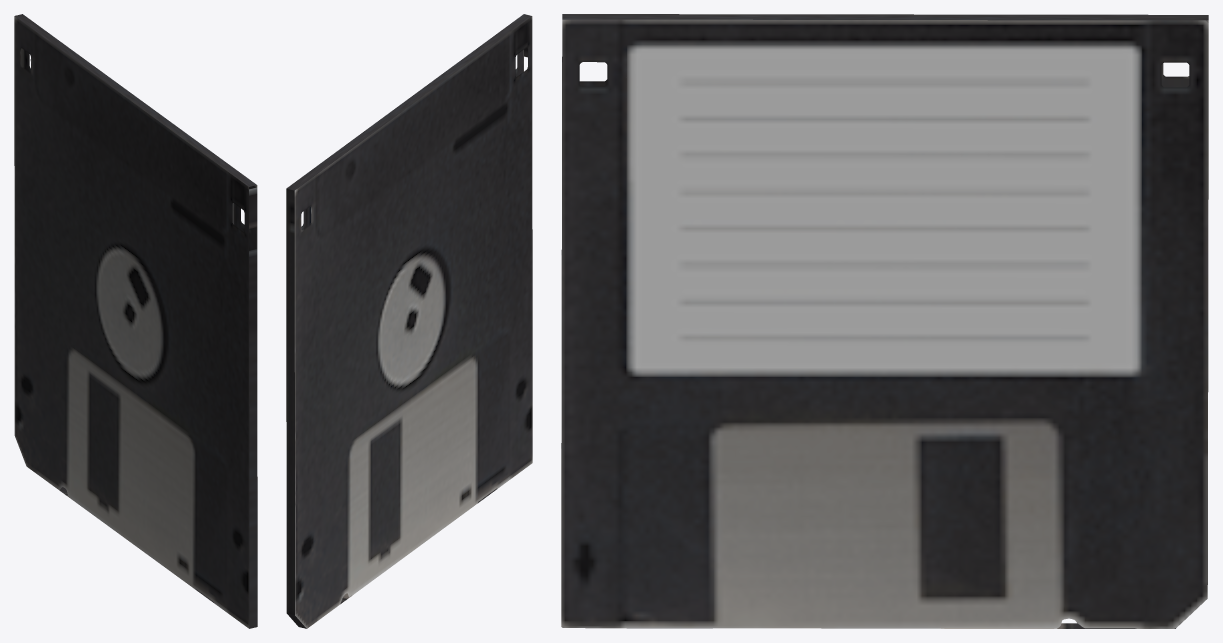
The model's file is СССР.fbx.
3 renders of one model, left to right at view 1: azimuth 30°, elevation 25°; view 2: azimuth 150°, elevation 25°; view 3: azimuth 270°, elevation 25°, orthographic. The views are drawn at different scales.
Visible parts, largest first — view 1: Blank Floppy Disc; view 2: Blank Floppy Disc; view 3: Blank Floppy Disc.
Part boxes in pixels (x1,y1,x2,y2): Blank Floppy Disc: (14,14,257,628); Blank Floppy Disc: (286,14,532,628); Blank Floppy Disc: (561,14,1208,628).
Size of the model in its own units: 0.1842 by 9.41 by 9.06.
Materials: 1 (1 with a texture image).
